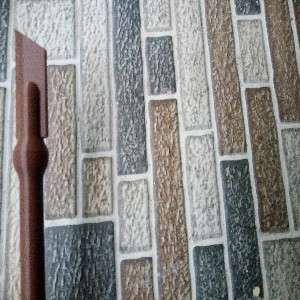cutter: (11, 27, 50, 300)
